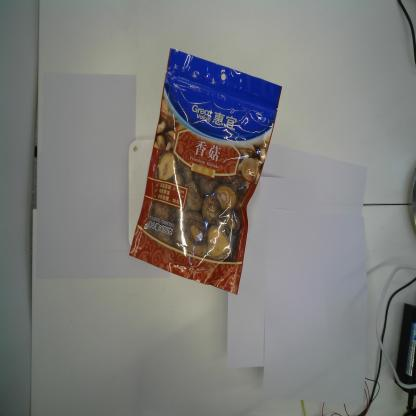Dried Food: (128, 46, 284, 296)
